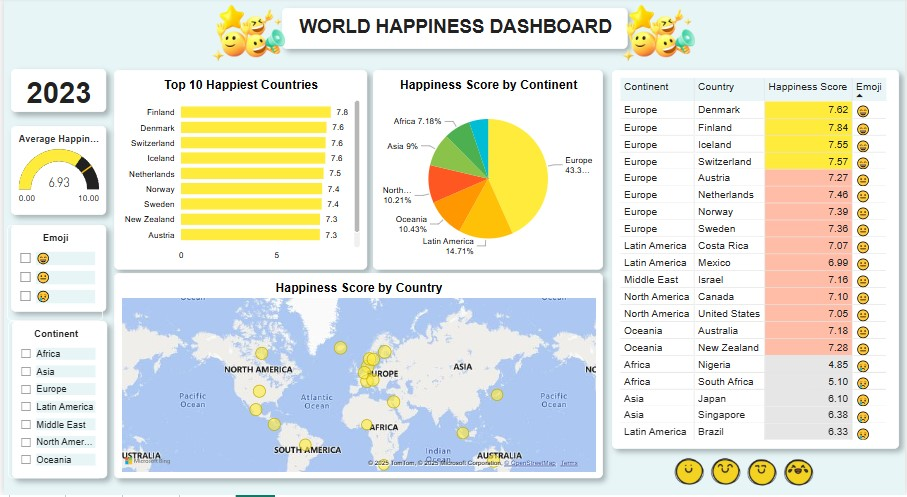

The dashboard page shown, as its layout file describes it:
{"tool":"powerbi","page":{"name":"Q4","canvas":[1278,706],"ordinal":3},"visuals":[{"type":"barChart","title":"Top 10 Happiest Countries","fields":{"Category":["Sheet1.Country"],"Y":["Sum(Sheet1.Happiness Score)"]},"box":[155.7,102.9,358.6,282.9],"z":0},{"type":"pieChart","title":"Happiness Score by Continent","fields":{"Category":["Sheet1.Continent"],"Y":["Sum(Sheet1.Happiness Score)"]},"box":[522.9,102.9,325.7,282.9],"z":1000},{"type":"map","title":"Happiness Score by Country","fields":{"Category":["Sheet1.Country"],"Size":["Sum(Sheet1.Happiness Score)"]},"box":[155.7,391.4,692.9,291.4],"z":2000},{"type":"shape","title":"WORLD HAPPINESS DASHBOARD","box":[393.8,15,490,57.5],"z":3000},{"type":"card","fields":{"Values":["Sheet1.Latest Year"]},"box":[10,102.5,135,61.2],"z":4000},{"type":"gauge","title":"Average Happiness","fields":{"Y":["Sheet1.Average Happiness"],"TargetValue":["select"],"MaxValue":["select1"],"MinValue":["select2"]},"box":[10,182.5,135,126.2],"z":5000},{"type":"tableEx","fields":{"Values":["Sheet1.Continent","Sheet1.Country","Sheet1.Happiness Score","Sheet1.Emoji"]},"box":[861.4,102.9,407.1,537.1],"z":6000},{"type":"image","box":[280,0,131.2,102.5],"z":7000},{"type":"image","box":[861.2,0,131.2,102.5],"z":8000},{"type":"shape","title":"WORLD HAPPINESS DASHBOARD","box":[10,323.8,135,122.5],"z":9000},{"type":"slicer","title":"Emoji ","fields":{"Values":["Sheet1.Emojis"]},"box":[3.8,323.8,136.2,136.2],"z":10000},{"type":"group","id":"g1","title":"Group 1","box":[5,460,140,222.5],"z":11000},{"type":"shape","title":"WORLD HAPPINESS DASHBOARD","box":[10,460,135,222.5],"z":12000,"group":"g1"},{"type":"image","box":[898.6,640,298.6,65.7],"z":12000},{"type":"slicer","title":"Continent","fields":{"Values":["Sheet1.Continent"]},"box":[5,460,135,222.5],"z":13000,"group":"g1"}]}

Visuals, with their boxes in screenshot pixels (x1, y1, x2, y2), scaled from the page's 1278x706 canvas onto the 907x497 screenshot:
"Top 10 Happiest Countries" barChart: x1=111 y1=72 x2=365 y2=272
"Happiness Score by Continent" pieChart: x1=371 y1=72 x2=602 y2=272
"Happiness Score by Country" map: x1=111 y1=276 x2=602 y2=481
"WORLD HAPPINESS DASHBOARD" shape: x1=279 y1=11 x2=627 y2=51
card - Sheet1.Latest Year: x1=7 y1=72 x2=103 y2=115
"Average Happiness" gauge: x1=7 y1=128 x2=103 y2=217
tableEx - Sheet1.Continent x Sheet1.Country: x1=611 y1=72 x2=900 y2=451
image: x1=199 y1=0 x2=292 y2=72
image: x1=611 y1=0 x2=704 y2=72
"WORLD HAPPINESS DASHBOARD" shape: x1=7 y1=228 x2=103 y2=314
"Emoji " slicer: x1=3 y1=228 x2=99 y2=324
"Group 1" group: x1=4 y1=324 x2=103 y2=480
"WORLD HAPPINESS DASHBOARD" shape: x1=7 y1=324 x2=103 y2=480
image: x1=638 y1=451 x2=850 y2=496
"Continent" slicer: x1=4 y1=324 x2=99 y2=480
